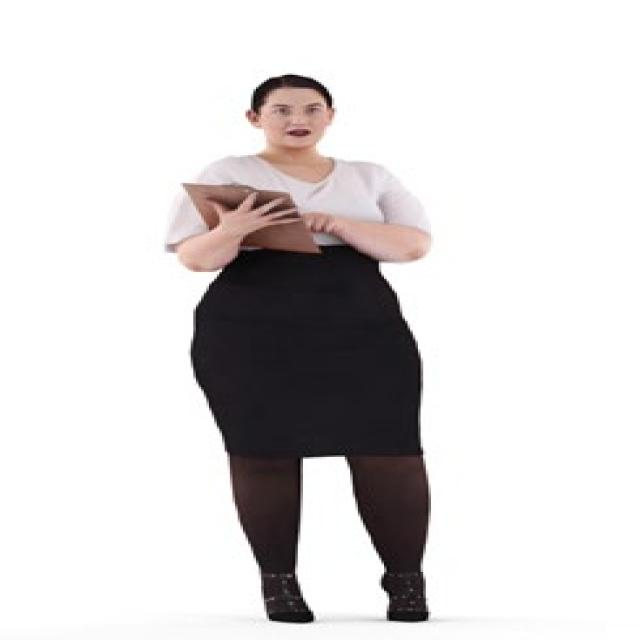standing: (160, 70, 445, 630)
